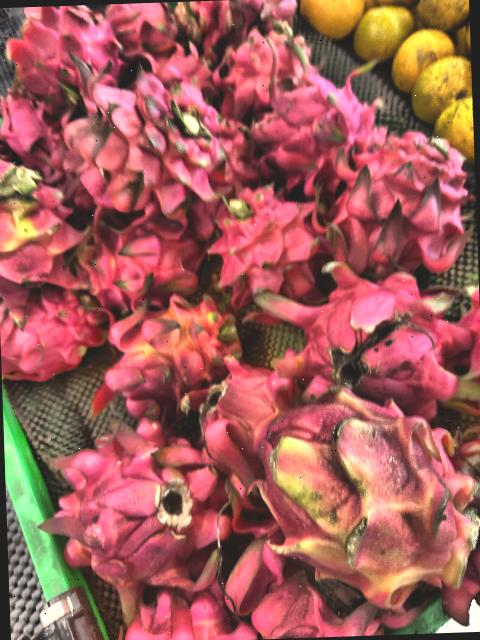buah-naga-belum-matang: (251, 390, 480, 605), (96, 302, 246, 408), (0, 149, 86, 292)
buah-naga-matang: (41, 410, 248, 592), (256, 254, 471, 416), (328, 128, 478, 284), (66, 68, 225, 214), (250, 57, 374, 172), (68, 208, 204, 300), (213, 188, 324, 298), (182, 354, 282, 476), (4, 6, 126, 100), (216, 20, 315, 124), (0, 283, 105, 374)
